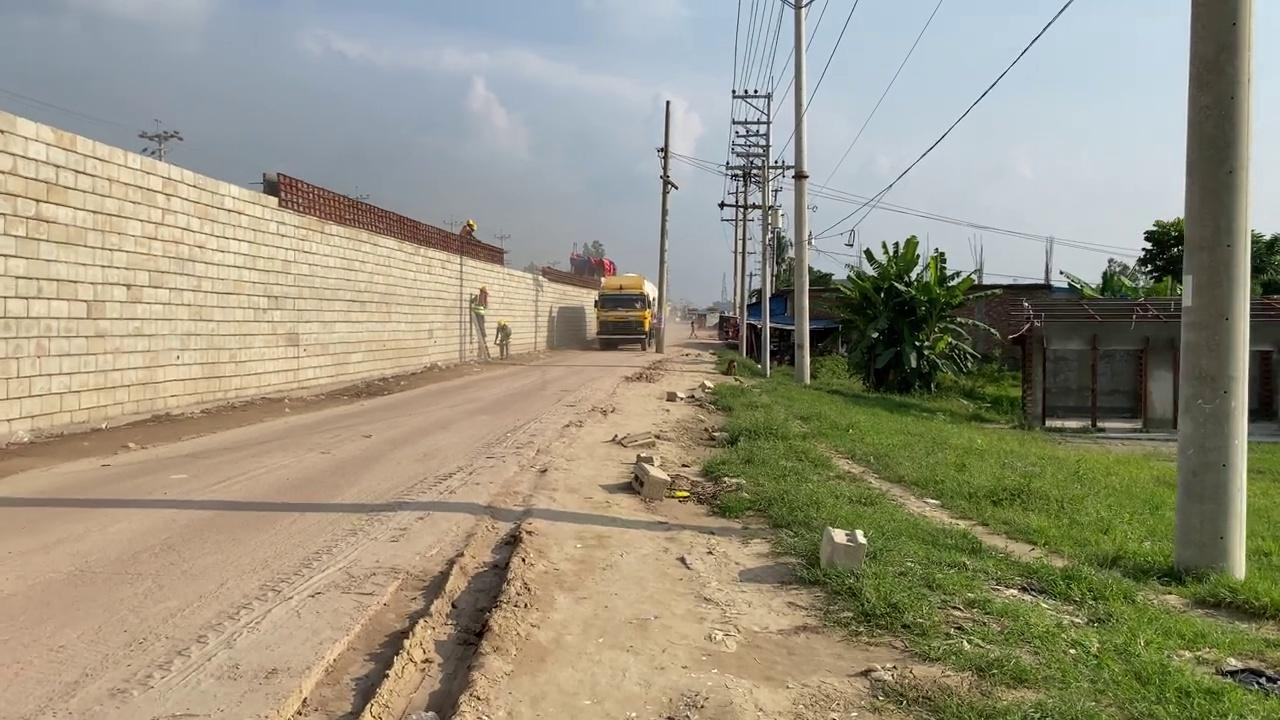Garbage: (818, 525, 867, 572)
Muddy road: (0, 315, 953, 718)
Pole: (1173, 0, 1253, 582), (791, 1, 811, 385), (654, 100, 671, 353)
Traffic-sign: (830, 233, 1003, 394), (1134, 215, 1279, 296)
Tree: (593, 272, 658, 350), (569, 240, 617, 278)
Upstairs: (0, 108, 602, 447)
